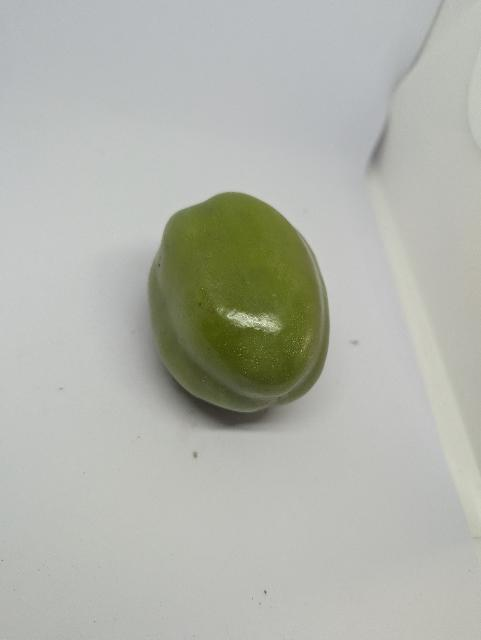green: (115, 182, 350, 420)
